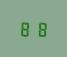eight: (33, 19, 46, 37), (19, 19, 32, 36)
